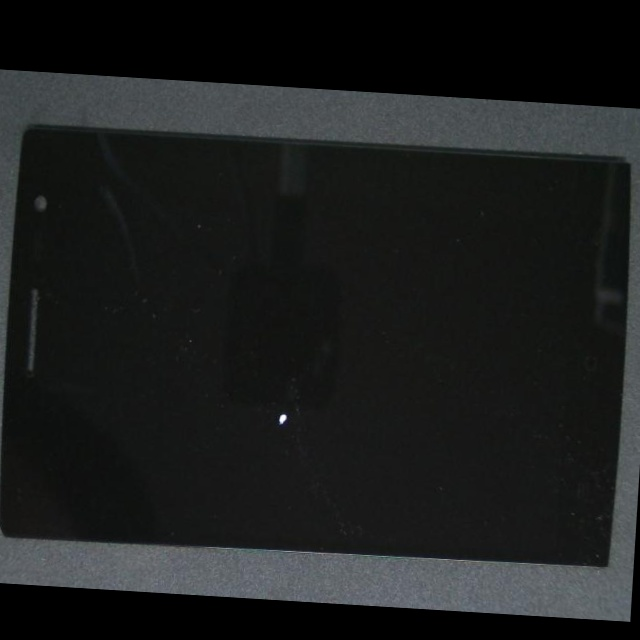stain: (128, 206, 449, 571)
